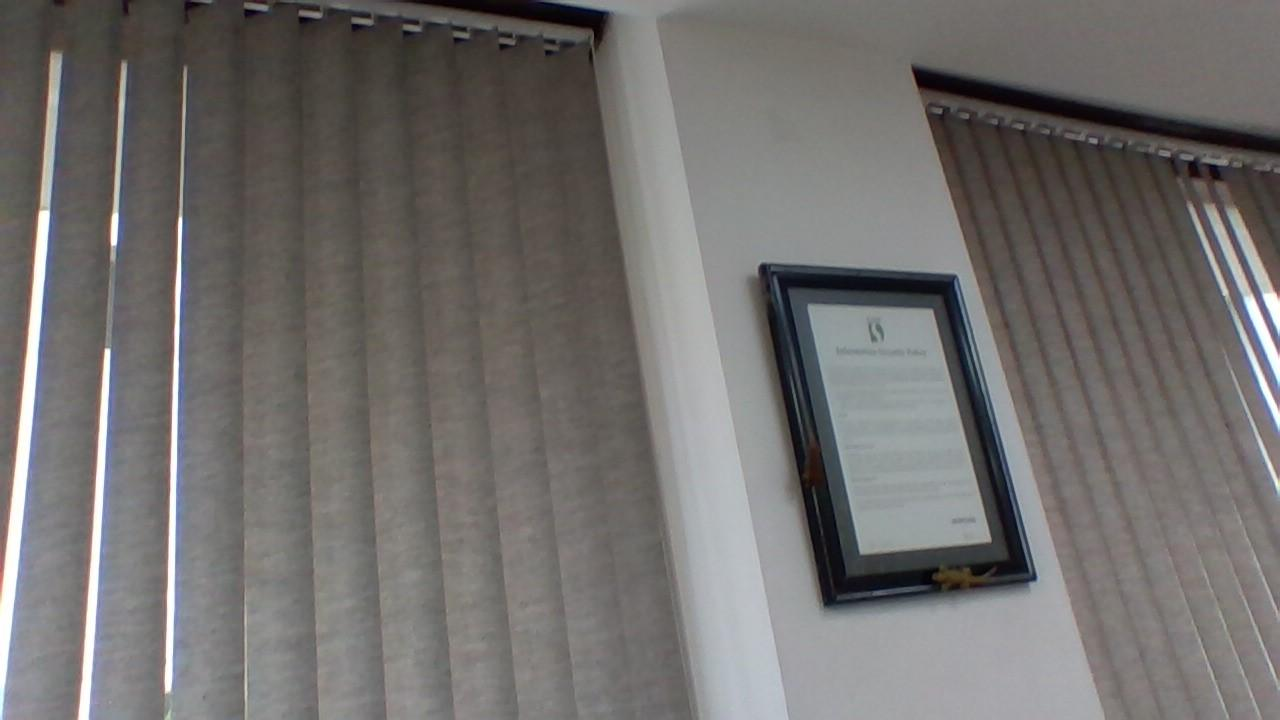cockroach: (792, 420, 830, 509)
lizard: (917, 559, 1006, 601)
